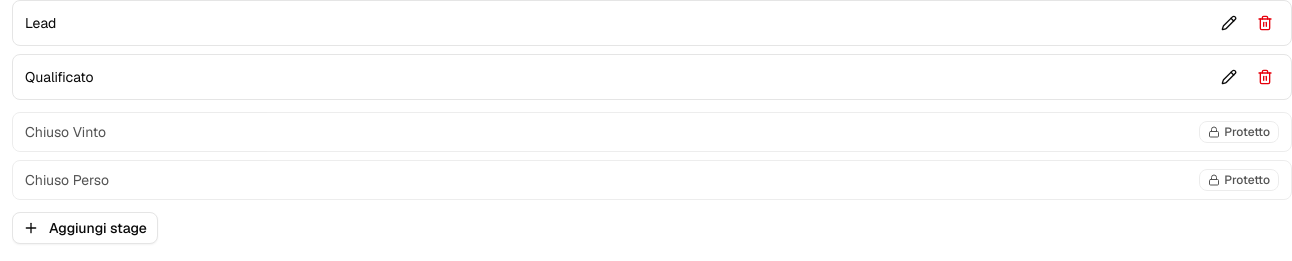
PipelineStageList (admin) › shows rename input when rename button clicked
Click the button named "rinomina" in the row of "Lead" at (1229, 23), box [1215, 9, 1243, 37]
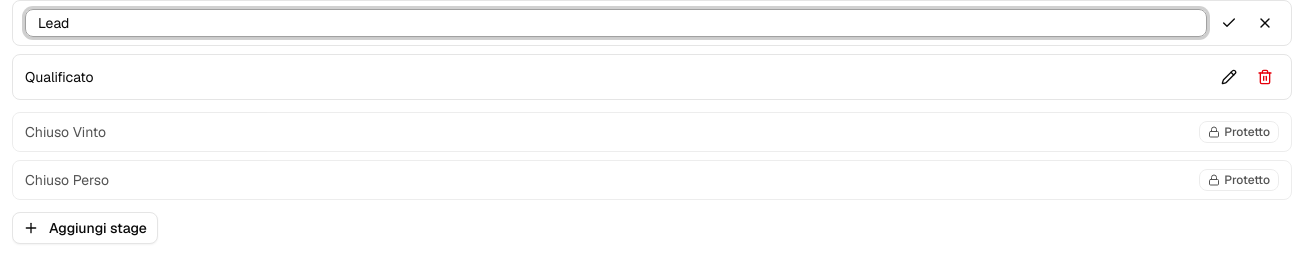
Now the field showing "Lead" is shown, box [25, 9, 1207, 37]
